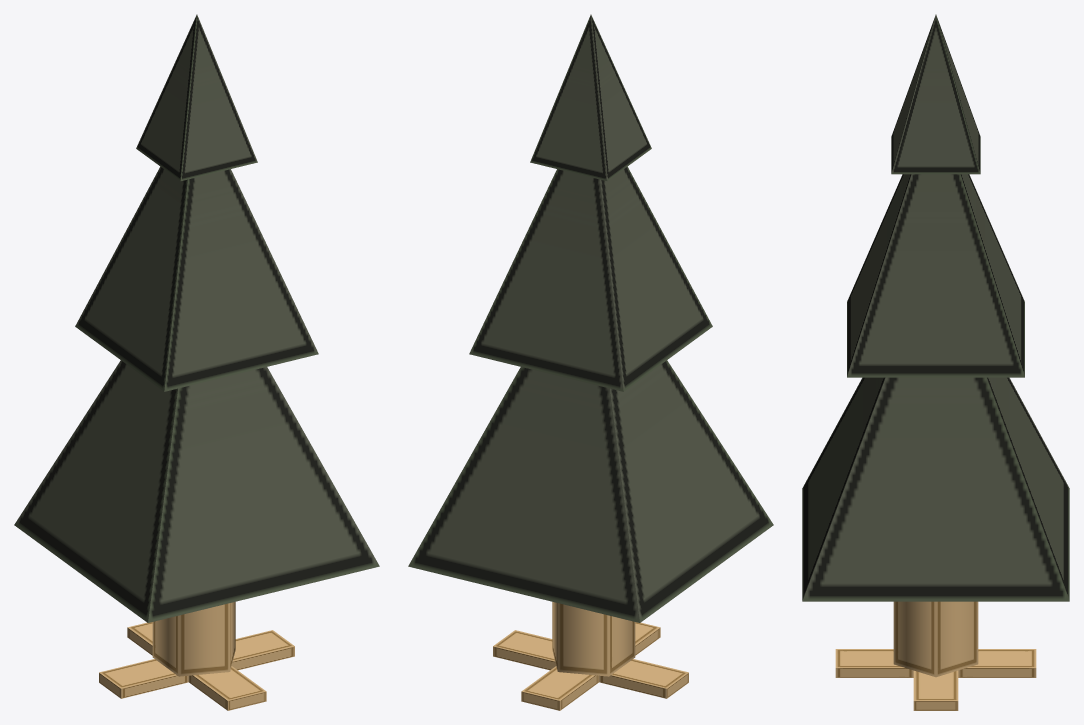
The model's file is Tree009.FBX.
The picture shows the model from 3 angles, left to right: view 1: azimuth 30°, elevation 25°; view 2: azimuth 150°, elevation 25°; view 3: azimuth 270°, elevation 25°; orthographic projection.
Parts seen in each view (by area): view 1: tree009; view 2: tree009; view 3: tree009.
Boxes of the visible parts, x1,y1,x2,y2 form: tree009: (14, 14, 379, 710); tree009: (408, 14, 773, 710); tree009: (802, 14, 1069, 710).
Bounding box in the file's own units: 120 × 324 × 120.
Materials: 1 (1 with a texture image).
